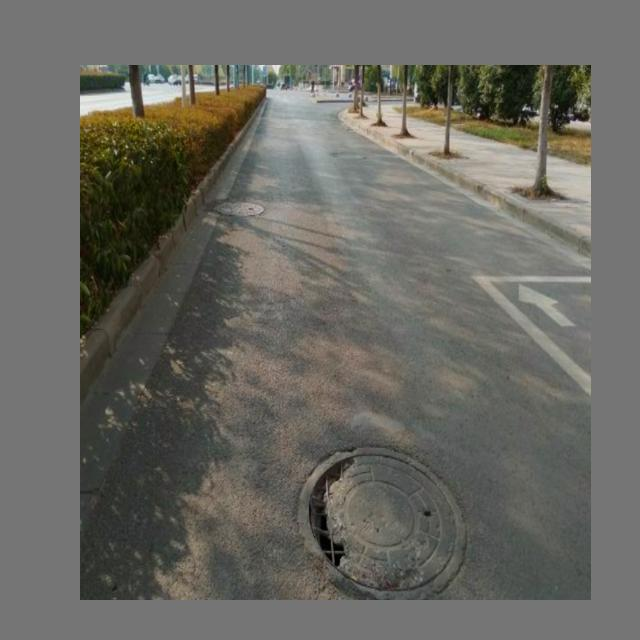broke: (298, 442, 467, 600)
